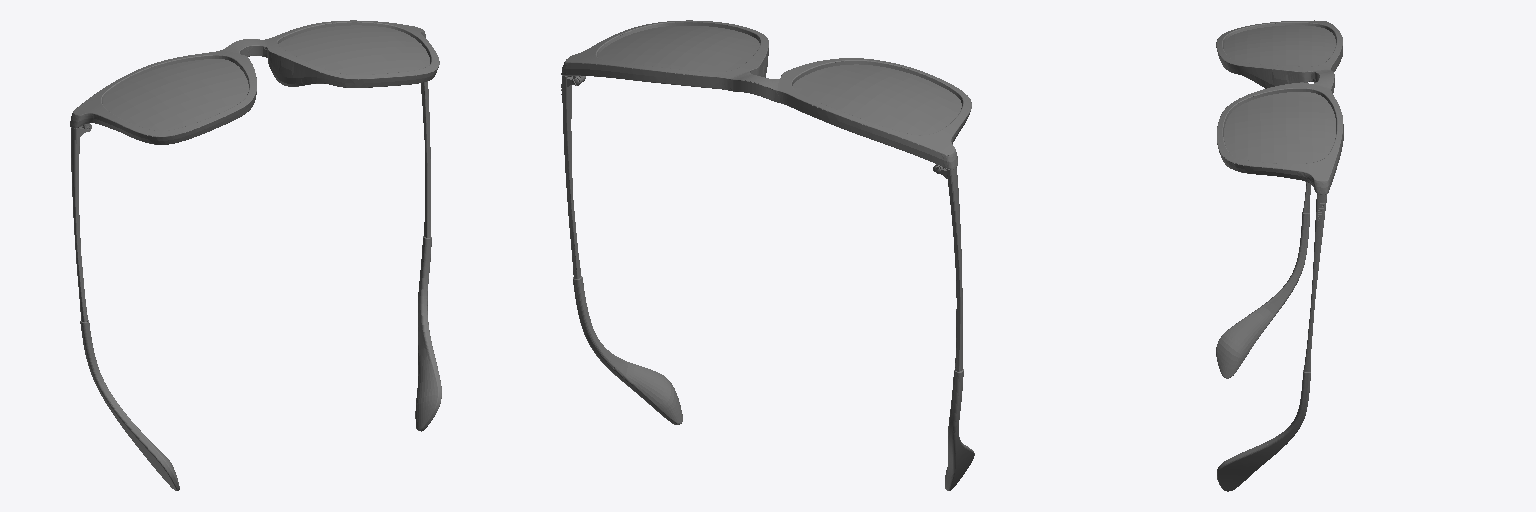
URDF robot description (object):
<?xml version="1.0"?>
<robot name="object">
  <link name="object">
    <visual>
      <origin xyz="0 0 0"/>
      <geometry>
        <mesh
          filename="../../mesh/oakink_virtual/eyeglasses_maya_36.stl" />
      </geometry>
      <material name="mat">
        <color rgba="0.5 0.5 0.5 1"/>
      </material>
    </visual>

    <collision>
      <origin xyz="0 0 0"/>
      <geometry>
        <mesh
          filename="../../mesh/oakink_virtual/eyeglasses_maya_36.stl" />
      </geometry>
    </collision>
  </link>
</robot>

--- What the picture shows (computed from the rendered views, not written in the file) ---
Views: 3 orthographic renders of the robot side by side, from view 1: azimuth 30°, elevation 25°; view 2: azimuth 150°, elevation 25°; view 3: azimuth 270°, elevation 25°.
Robot: object — 1 links, 0 joints (none); root link object; default pose: every joint at zero.
Links seen in each view (by area): view 1: object; view 2: object; view 3: object.
Link boxes in pixels (left/top/right/bottom): object: left=70, top=20, right=441, bottom=490; object: left=561, top=20, right=974, bottom=490; object: left=1216, top=20, right=1343, bottom=491.
Bounding box of the posed robot: 0.1433 × 0.0471 × 0.1462 m (x, y, z).
1 mesh visuals loaded from 1 distinct referenced files (1 binary STL).
